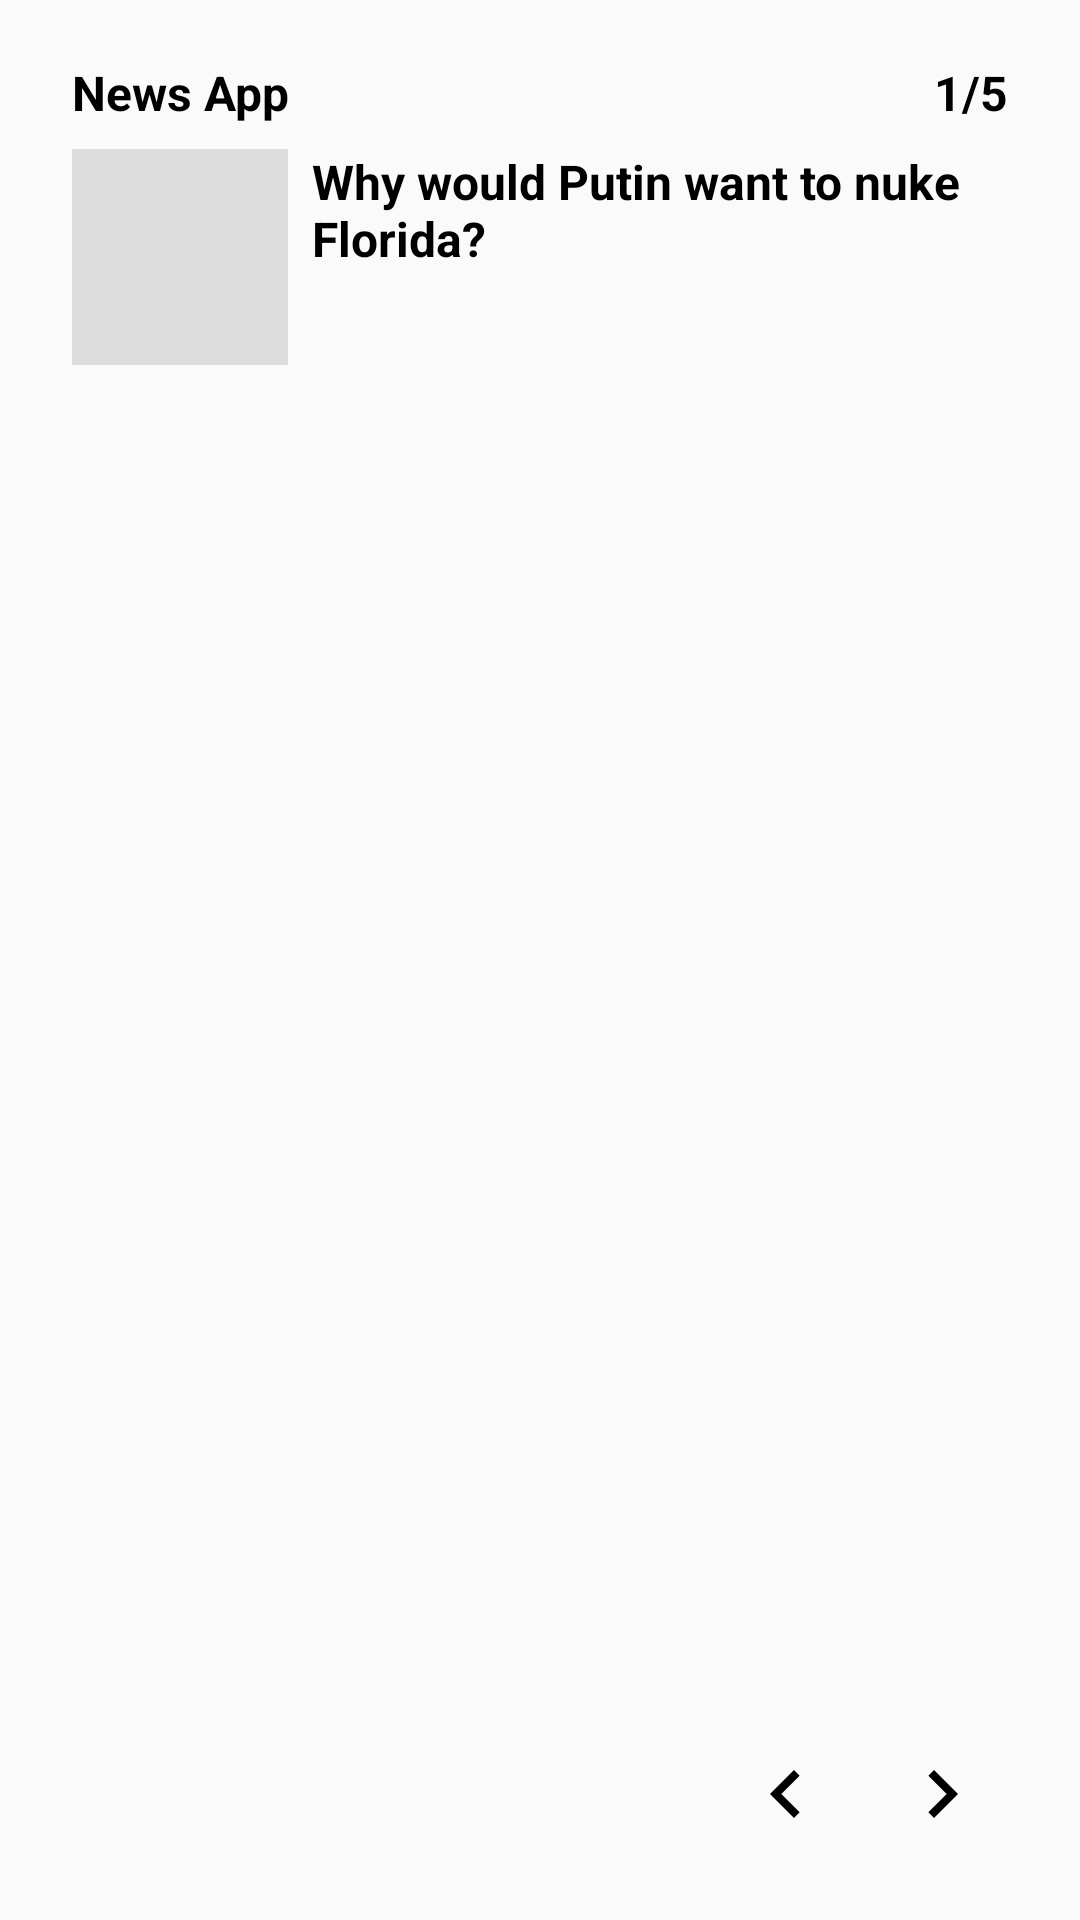

Screen size 1080x1920. Icon name, then its box in pixels as (x1, y1, x2, y2):
Next Button: (928, 1770, 958, 1818)
Previous Button: (770, 1770, 800, 1818)
